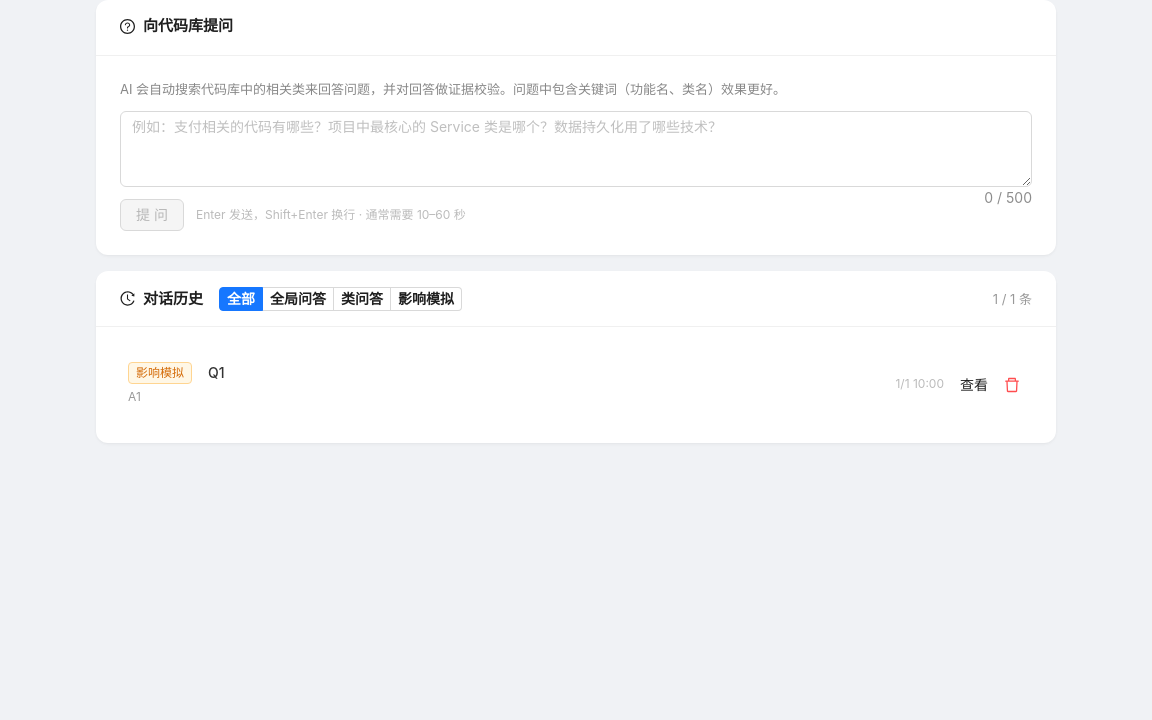
Test: ProjectInsights › detailModal_whenImpactSnapshotFieldsMissing_shouldRenderPlaceholders
Click the element with class "history-item-main" at (176, 383), box [128,362,225,404]
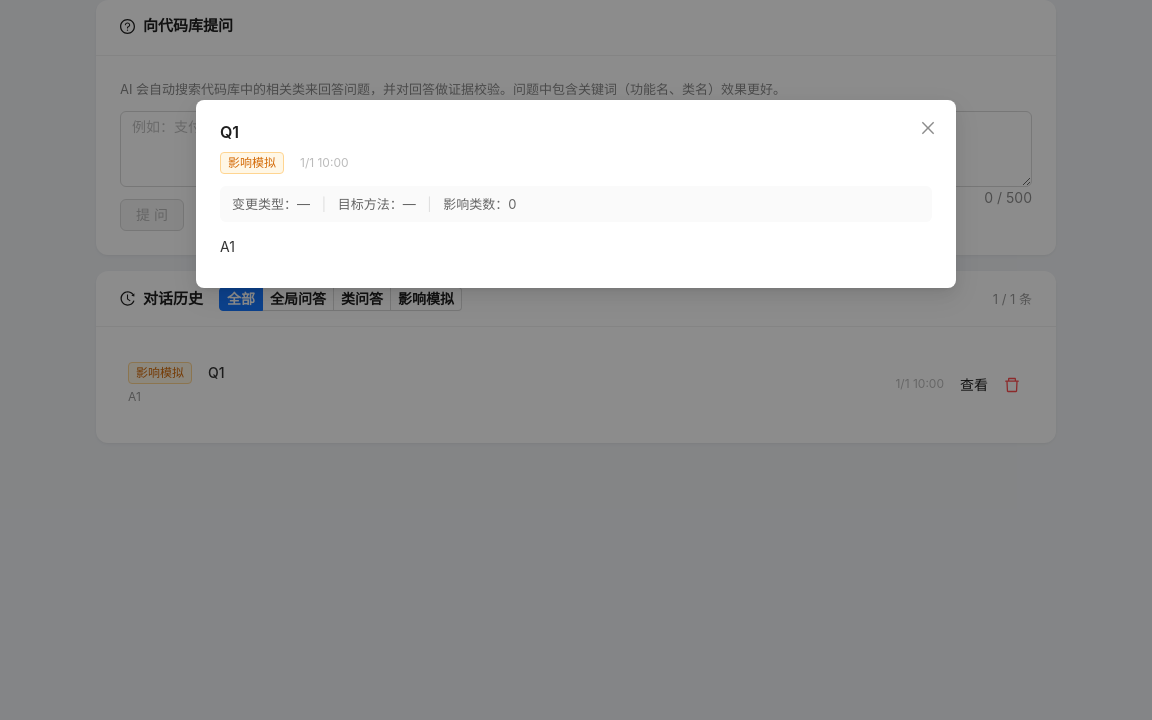
Check: the element with class "impact-snapshot" is shown, box [220,186,932,222]
Check: the element with class "impact-snapshot" shows "—", box [232,196,314,212]
